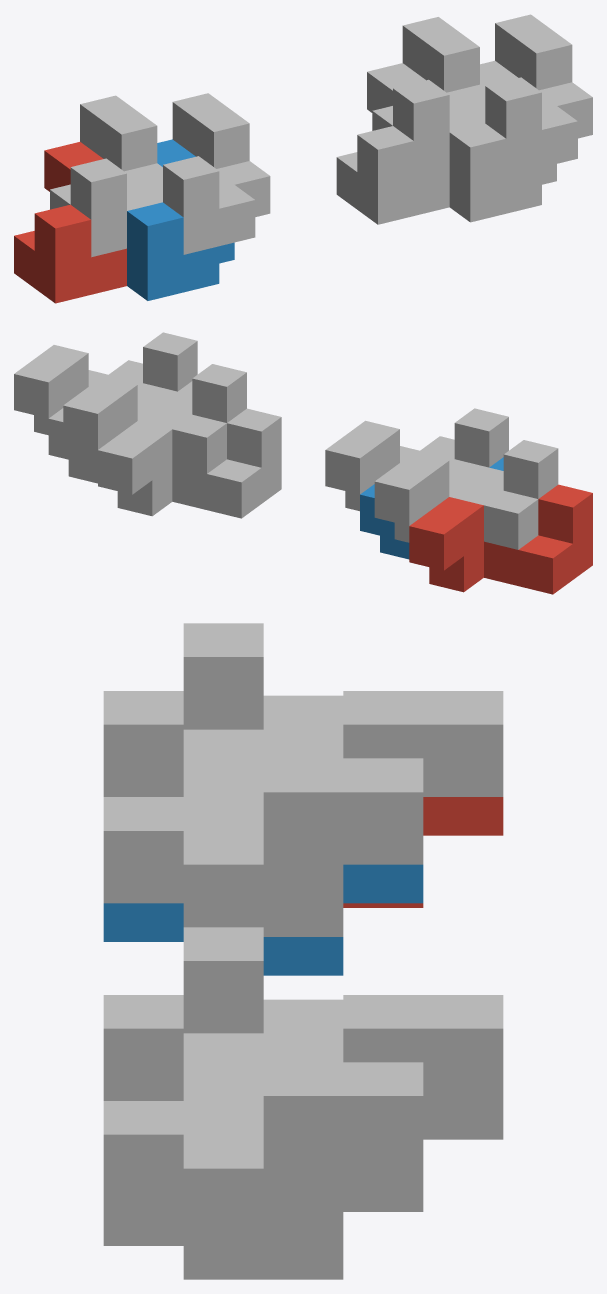
Rendered from tiling.obj.
3 views of the same model, one above another, from view 1: azimuth 30°, elevation 25°; view 2: azimuth 150°, elevation 25°; view 3: azimuth 270°, elevation 25° (orthographic). The views are drawn at different scales.
Visible parts, largest first — view 1: copy_1_domain_4, copy_1_domain_8, copy_1_domain_7, copy_1_domain_3, copy_1_domain_1, copy_1_domain_5, copy_1_domain_6, copy_1_domain_2; view 2: copy_1_domain_5, copy_1_domain_1, copy_1_domain_3, copy_1_domain_7, copy_1_domain_8, copy_1_domain_4, copy_1_domain_6, copy_1_domain_2; view 3: copy_1_domain_8, copy_1_domain_4, copy_1_domain_3, copy_1_domain_7, copy_1_domain_6, copy_1_domain_2, copy_1_domain_1, copy_1_domain_5.
Boxes of the visible parts, x1,y1,x2,y2 form: copy_1_domain_4: (142, 93, 270, 254); copy_1_domain_8: (465, 14, 592, 175); copy_1_domain_7: (372, 17, 485, 178); copy_1_domain_3: (50, 95, 162, 257); copy_1_domain_1: (14, 142, 126, 303); copy_1_domain_5: (336, 63, 449, 224); copy_1_domain_6: (449, 60, 556, 222); copy_1_domain_2: (127, 139, 234, 300); copy_1_domain_5: (98, 408, 281, 518); copy_1_domain_1: (409, 484, 592, 594); copy_1_domain_3: (374, 440, 558, 549); copy_1_domain_7: (63, 364, 246, 473); copy_1_domain_8: (14, 332, 197, 435); copy_1_domain_4: (325, 408, 508, 511); copy_1_domain_6: (48, 381, 192, 483); copy_1_domain_2: (360, 457, 503, 559); copy_1_domain_8: (103, 995, 423, 1240); copy_1_domain_4: (103, 691, 423, 936); copy_1_domain_3: (183, 623, 503, 796); copy_1_domain_7: (183, 927, 503, 1100); copy_1_domain_6: (103, 1168, 423, 1279); copy_1_domain_2: (103, 864, 423, 975); copy_1_domain_1: (343, 797, 503, 907); copy_1_domain_5: (343, 1101, 503, 1211).
Bounding box in the file's own units: 15 × 3 × 5.
